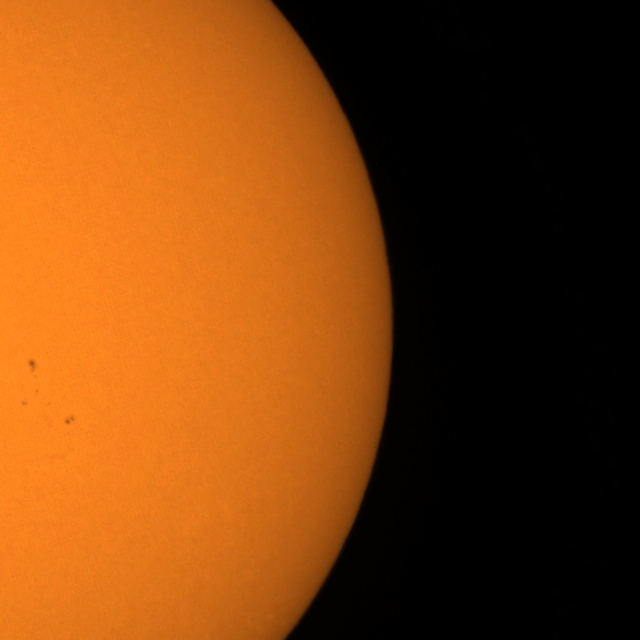sunspot: (27, 358, 38, 375), (64, 414, 77, 426), (20, 399, 29, 407), (34, 388, 40, 396)
